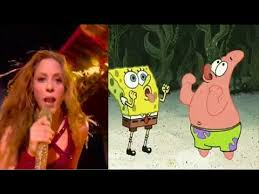middle_eastern_Female: (29, 58, 70, 111)
